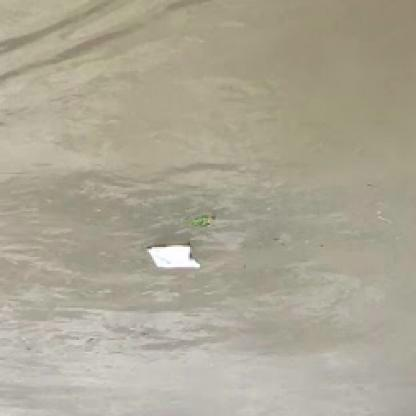Trash: (145, 237, 201, 272)
